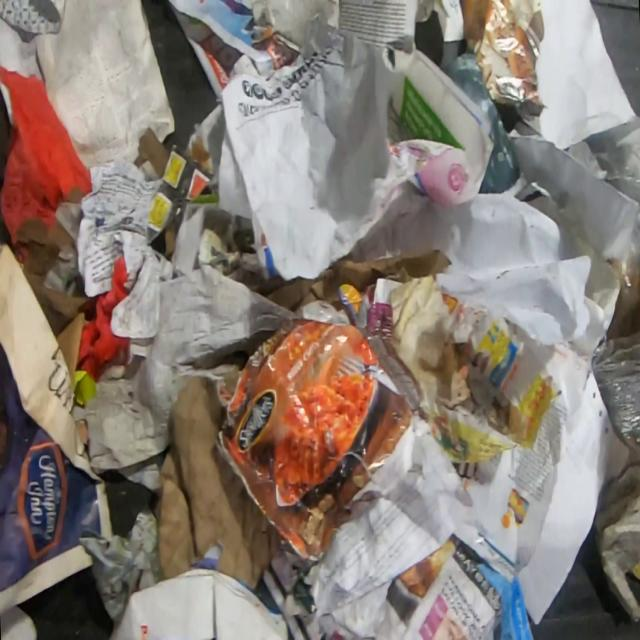cardboard: (212, 318, 424, 569), (156, 374, 282, 592), (439, 50, 528, 199), (16, 215, 91, 389), (132, 127, 213, 254)
soft_plastic: (579, 315, 640, 463), (582, 114, 640, 202)
